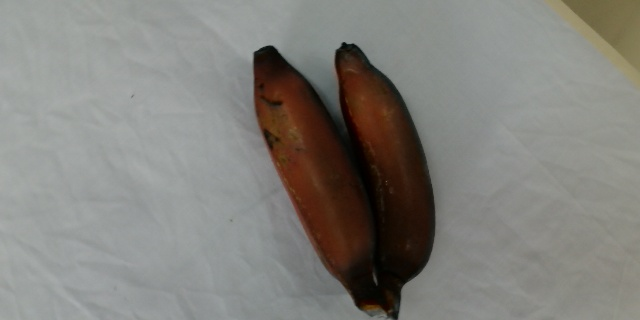banana_red: (250, 46, 383, 316), (335, 40, 437, 320)
